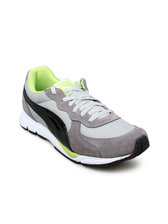shoes: (16, 62, 155, 173)
